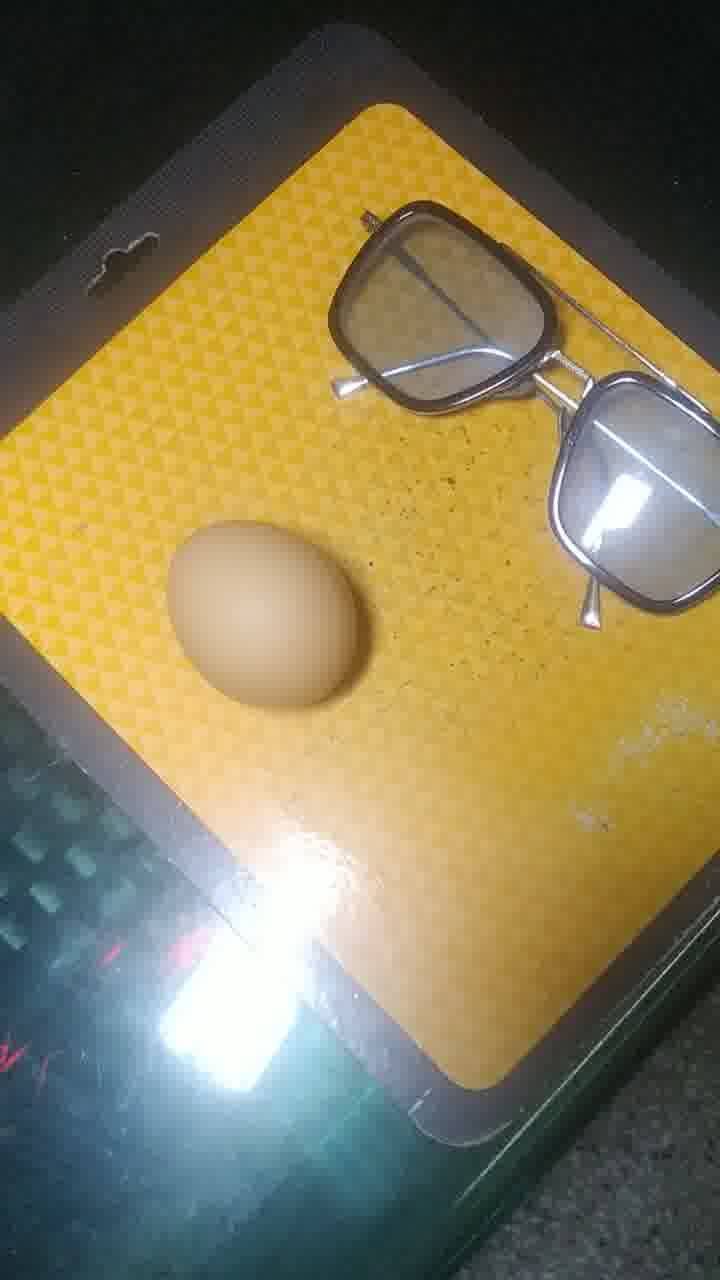egg: (163, 521, 374, 718)
sunglass: (328, 190, 720, 607)
